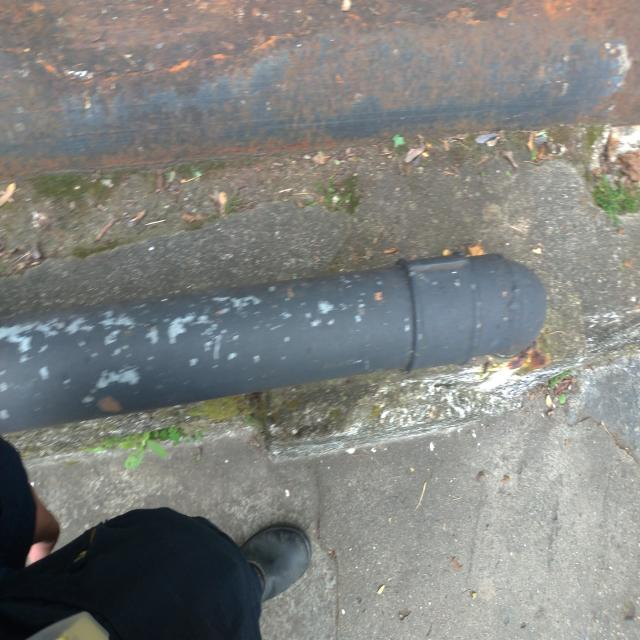gas: (3, 254, 537, 424)
